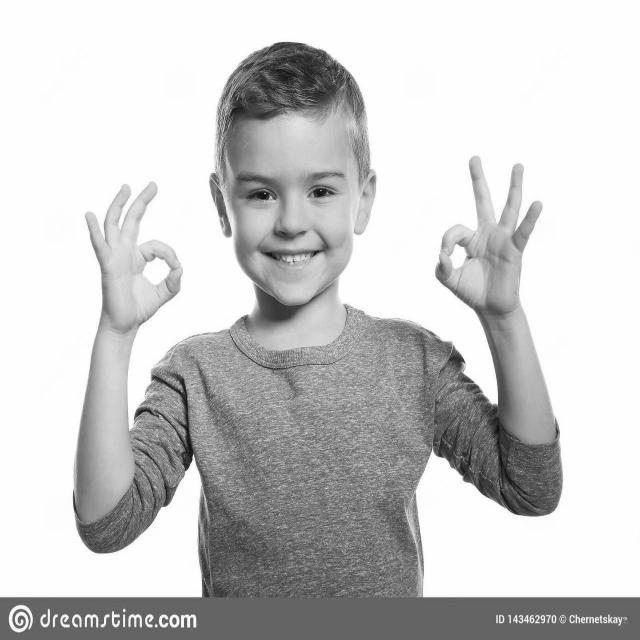perfect: (429, 148, 546, 324), (80, 175, 186, 336)
